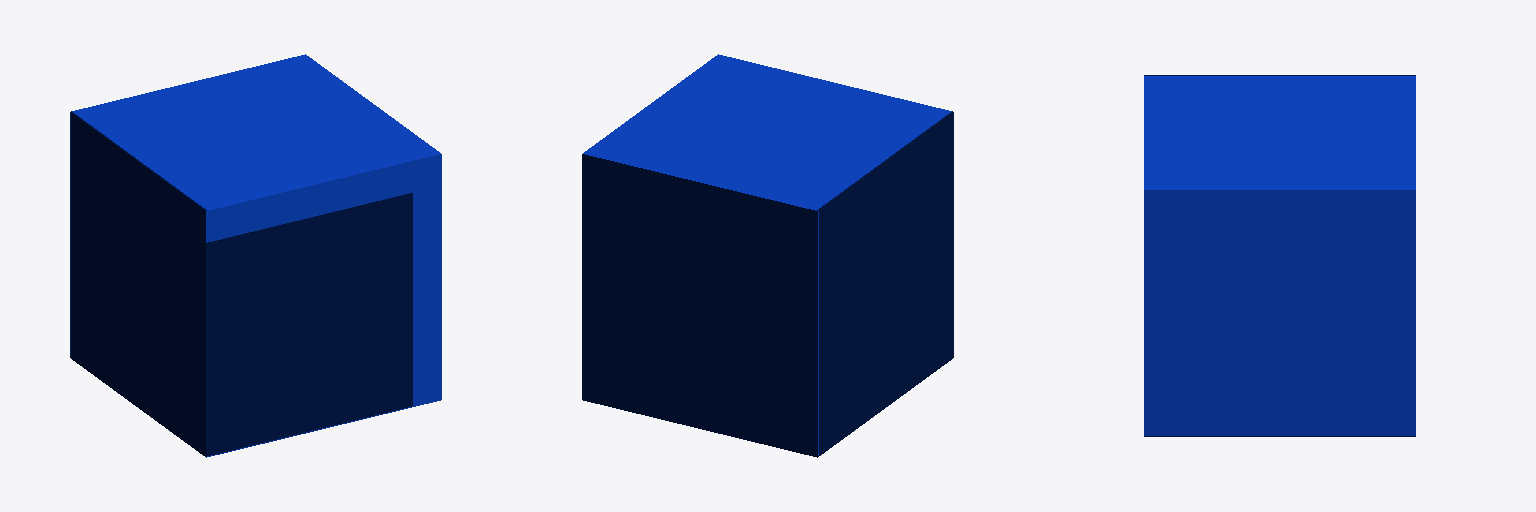
3 renders of one model, left to right at view 1: azimuth 30°, elevation 25°; view 2: azimuth 150°, elevation 25°; view 3: azimuth 270°, elevation 25°, orthographic.
Visible parts, largest first — view 1: Cube; view 2: Cube; view 3: Cube.
Part boxes in pixels (x1,y1,x2,y2): Cube: (70,54,441,457); Cube: (582,54,953,457); Cube: (1144,75,1415,436).
Bounding box in the file's own units: 2 × 2 × 2.
Materials: 1 (1 with a texture image).